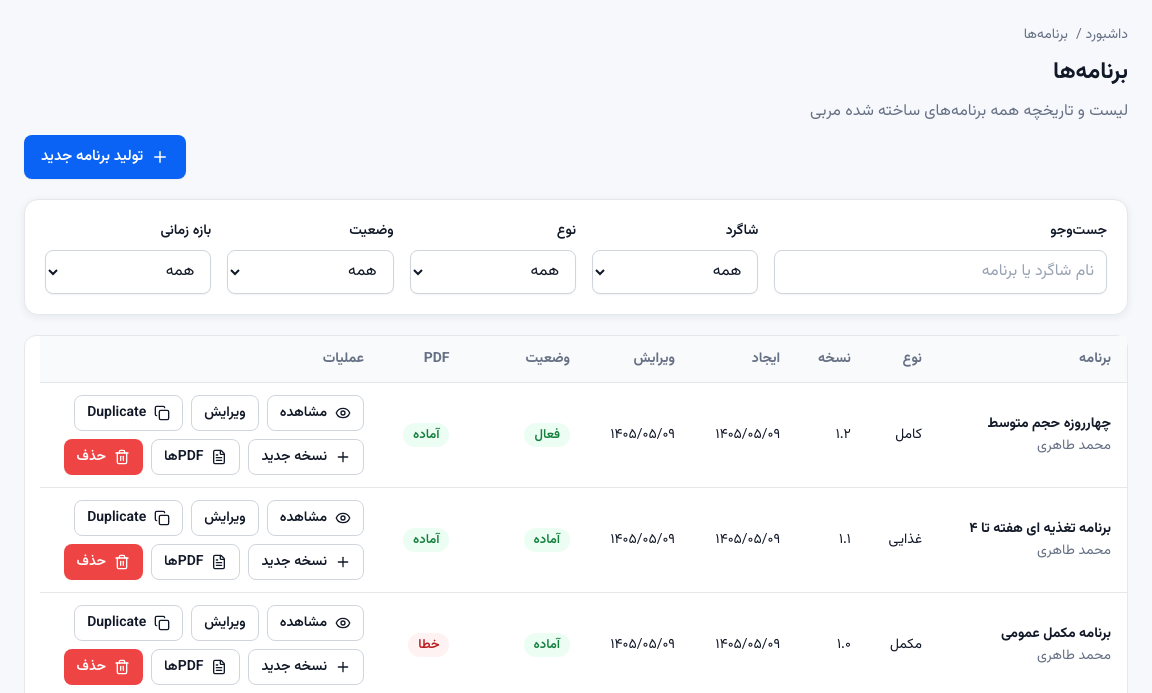
it: ProgramsListPage › deletes a program with confirmation
Click the button "حذف" in the row of "۱.۲". click: x=103, y=457
box: 64,439 -> 143,475
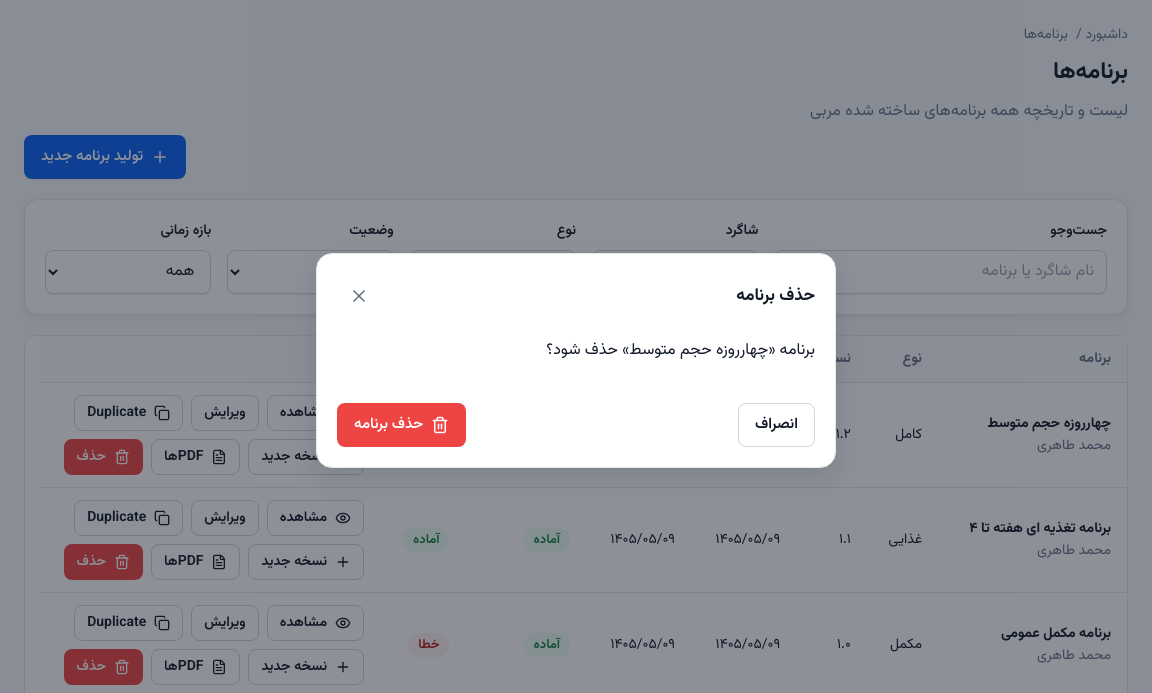
Check: the heading "حذف برنامه" is shown, box 736,282 -> 815,308
Click the button "حذف برنامه". click: x=402, y=424
box: 337,402 -> 466,446
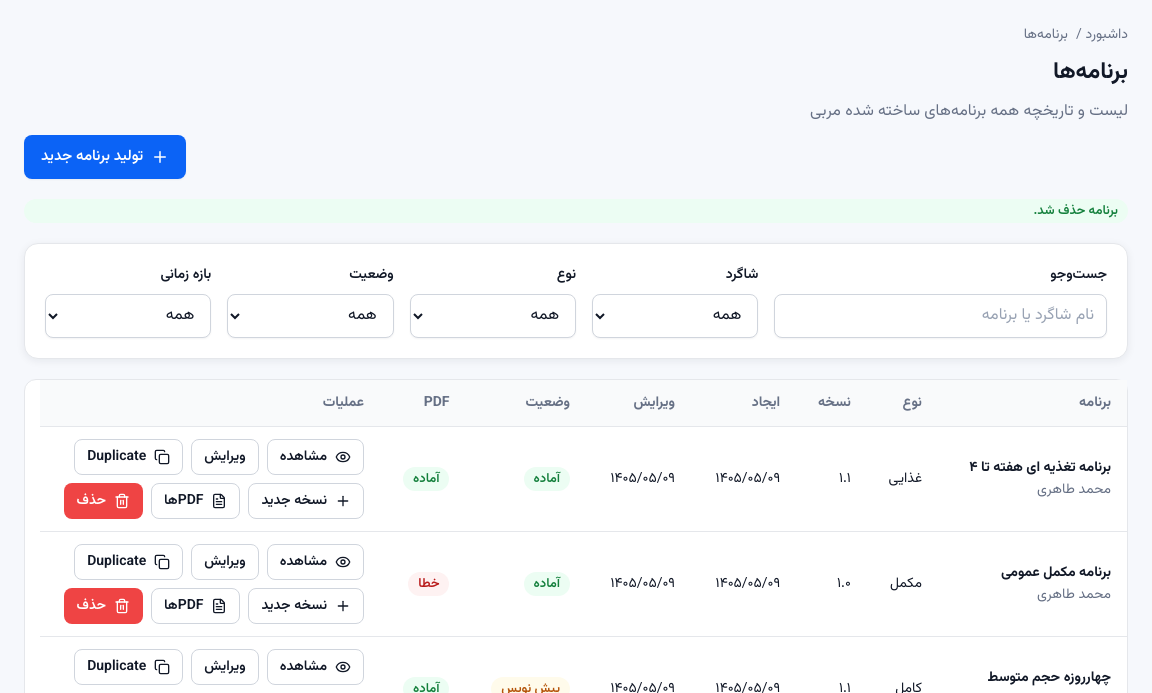
Check: the text "برنامه حذف شد." is shown, box 24,199 -> 1128,223
